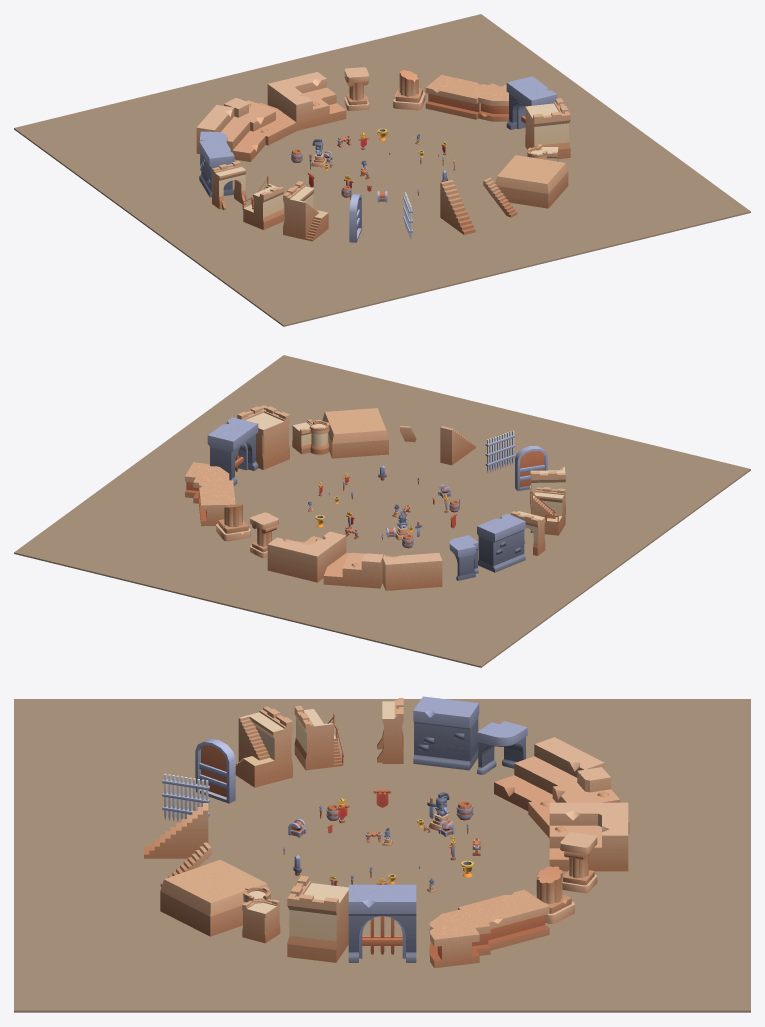
File: world.glb
3 views of the same model, one above another, from view 1: azimuth 30°, elevation 25°; view 2: azimuth 150°, elevation 25°; view 3: azimuth 270°, elevation 25° (orthographic). The views are drawn at different scales.
Parts seen in each view (by area): view 1: Terrain, ArenaWall_005_stairs-corner-inner, ArenaWall_017_tower-square-base-bo, ArenaWall_019_wall-corner-half, ArenaWall_007_stairs, ArenaWall_012_wall-narrow-stairs, ArenaWall_002_border-straight, ArenaWall_006_stairs-corner, ArenaWall_000_wall-gate, ArenaWall_011_wall-narrow-stairs-r, ArenaWall_009_wall, ArenaWall_010_wall-narrow-gate (+5 smaller); view 2: Terrain, ArenaWall_005_stairs-corner-inner, ArenaWall_017_tower-square-base-bo, ArenaWall_000_wall-gate, ArenaWall_009_wall, ArenaWall_007_stairs, ArenaWall_019_wall-corner-half, ArenaWall_006_stairs-corner, ArenaWall_011_wall-narrow-stairs-r, ArenaWall_002_border-straight, ArenaWall_018_wall-corner-half-tow, ArenaWall_013_gate (+8 smaller); view 3: Terrain, ArenaWall_017_tower-square-base-bo, ArenaWall_019_wall-corner-half, ArenaWall_005_stairs-corner-inner, ArenaWall_000_wall-gate, ArenaWall_009_wall, ArenaWall_007_stairs, ArenaWall_012_wall-narrow-stairs, ArenaWall_002_border-straight, ArenaWall_001_border-corner, ArenaWall_011_wall-narrow-stairs-r, ArenaWall_006_stairs-corner (+9 smaller).
Part boxes in pixels (box(x1,y1,x2,y2)): Terrain: box(14, 14, 750, 326); ArenaWall_005_stairs-corner-inner: box(267, 72, 346, 130); ArenaWall_017_tower-square-base-bo: box(495, 155, 568, 208); ArenaWall_019_wall-corner-half: box(525, 98, 570, 158); ArenaWall_007_stairs: box(196, 104, 265, 161); ArenaWall_012_wall-narrow-stairs: box(283, 181, 328, 241); ArenaWall_002_border-straight: box(425, 75, 491, 119); ArenaWall_006_stairs-corner: box(224, 98, 296, 145); ArenaWall_000_wall-gate: box(506, 76, 557, 129); ArenaWall_011_wall-narrow-stairs-r: box(242, 176, 283, 229); ArenaWall_009_wall: box(199, 138, 234, 197); ArenaWall_010_wall-narrow-gate: box(212, 161, 246, 210); Terrain: box(14, 355, 750, 667); ArenaWall_005_stairs-corner-inner: box(267, 531, 346, 582); ArenaWall_017_tower-square-base-bo: box(322, 408, 388, 458); ArenaWall_000_wall-gate: box(207, 417, 258, 485); ArenaWall_009_wall: box(477, 513, 525, 572); ArenaWall_007_stairs: box(382, 553, 442, 590); ArenaWall_019_wall-corner-half: box(237, 405, 289, 469); ArenaWall_006_stairs-corner: box(323, 552, 389, 588); ArenaWall_011_wall-narrow-stairs-r: box(530, 487, 565, 535); ArenaWall_002_border-straight: box(198, 480, 235, 526); ArenaWall_018_wall-corner-half-tow: box(292, 419, 329, 454); ArenaWall_013_gate: box(515, 446, 547, 491); Terrain: box(14, 699, 750, 1012); ArenaWall_017_tower-square-base-bo: box(160, 859, 270, 936); ArenaWall_019_wall-corner-half: box(287, 875, 348, 962); ArenaWall_005_stairs-corner-inner: box(549, 802, 628, 871); ArenaWall_000_wall-gate: box(348, 884, 416, 962); ArenaWall_009_wall: box(413, 696, 479, 770); ArenaWall_007_stairs: box(494, 737, 604, 810); ArenaWall_012_wall-narrow-stairs: box(235, 706, 292, 787); ArenaWall_002_border-straight: box(458, 889, 549, 950); ArenaWall_001_border-corner: box(429, 907, 490, 968); ArenaWall_011_wall-narrow-stairs-r: box(294, 705, 343, 770); ArenaWall_006_stairs-corner: box(528, 767, 629, 837).
Bounding box in the file's own units: 150 × 14.19 × 150.
33 materials, 31 textured.
